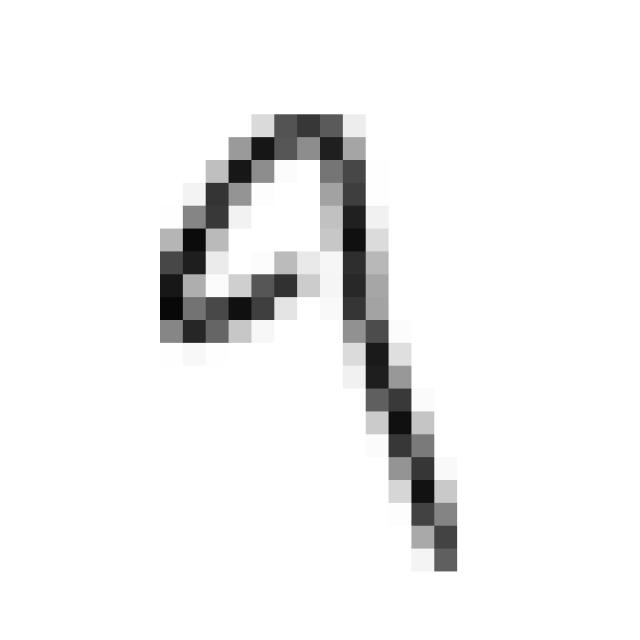9 -nine-: (130, 96, 478, 589)
